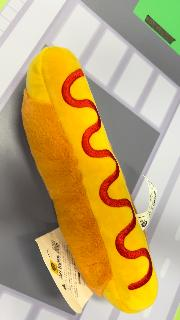hotdog: (21, 46, 159, 314)
